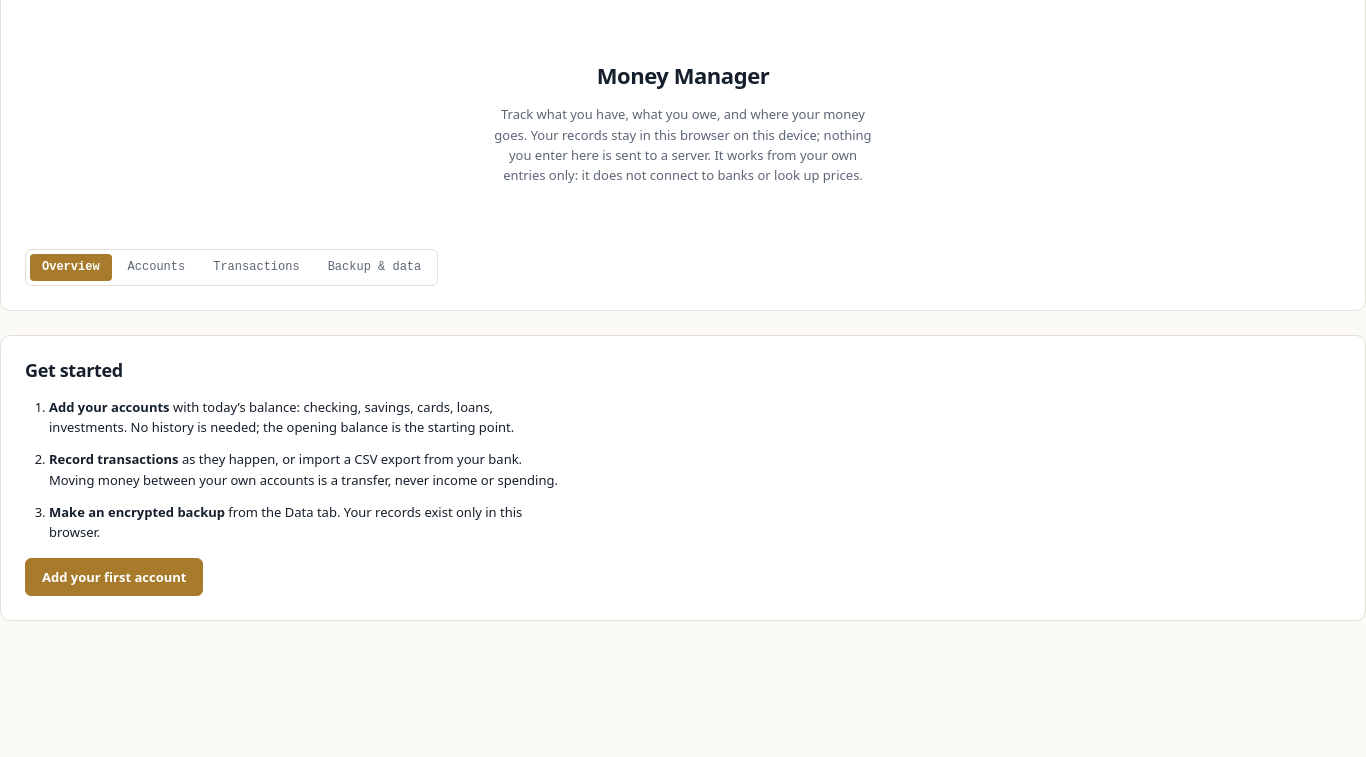
Money Manager › does not show months before tracking began as zero
The image size is (1366, 757).
Click the button "Accounts" at (156, 267), box [116, 254, 197, 281]
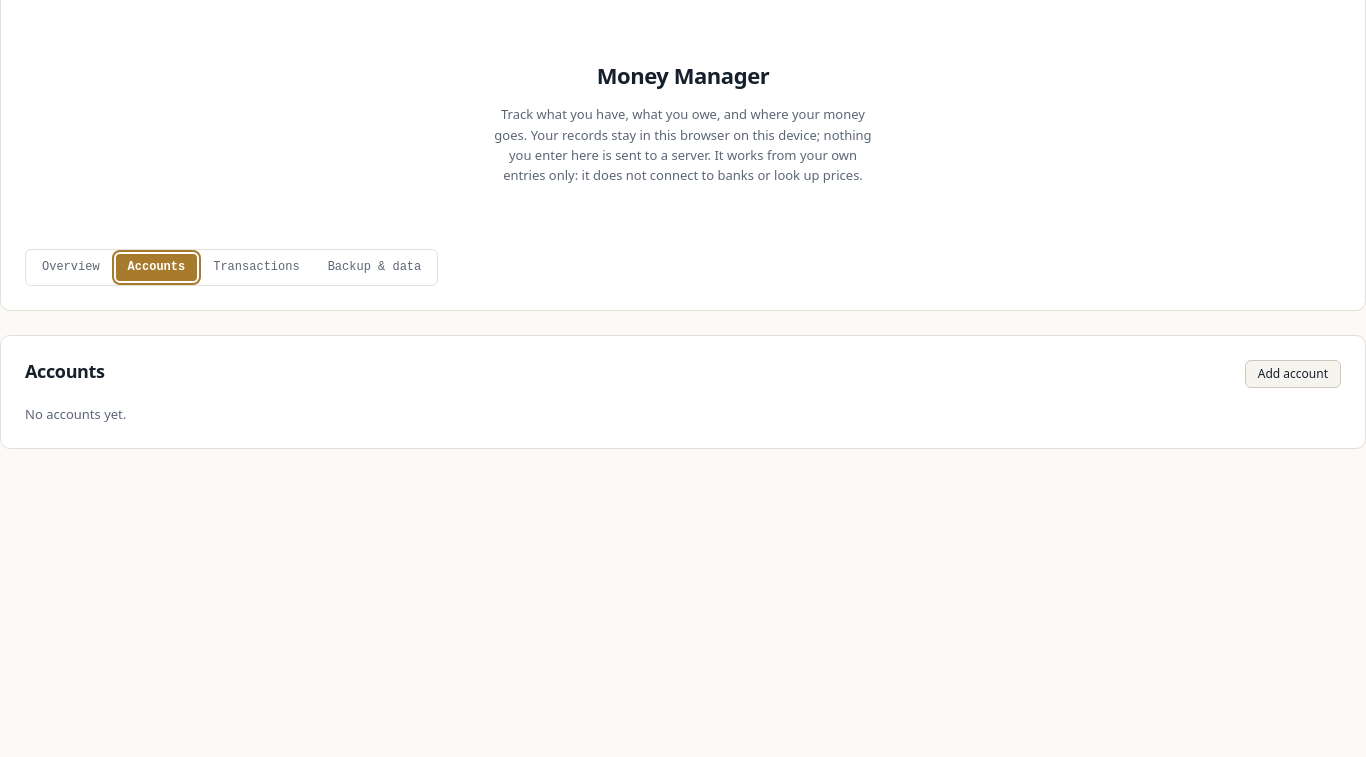
Click the button "Add account" at (1293, 374), box [1245, 360, 1341, 388]
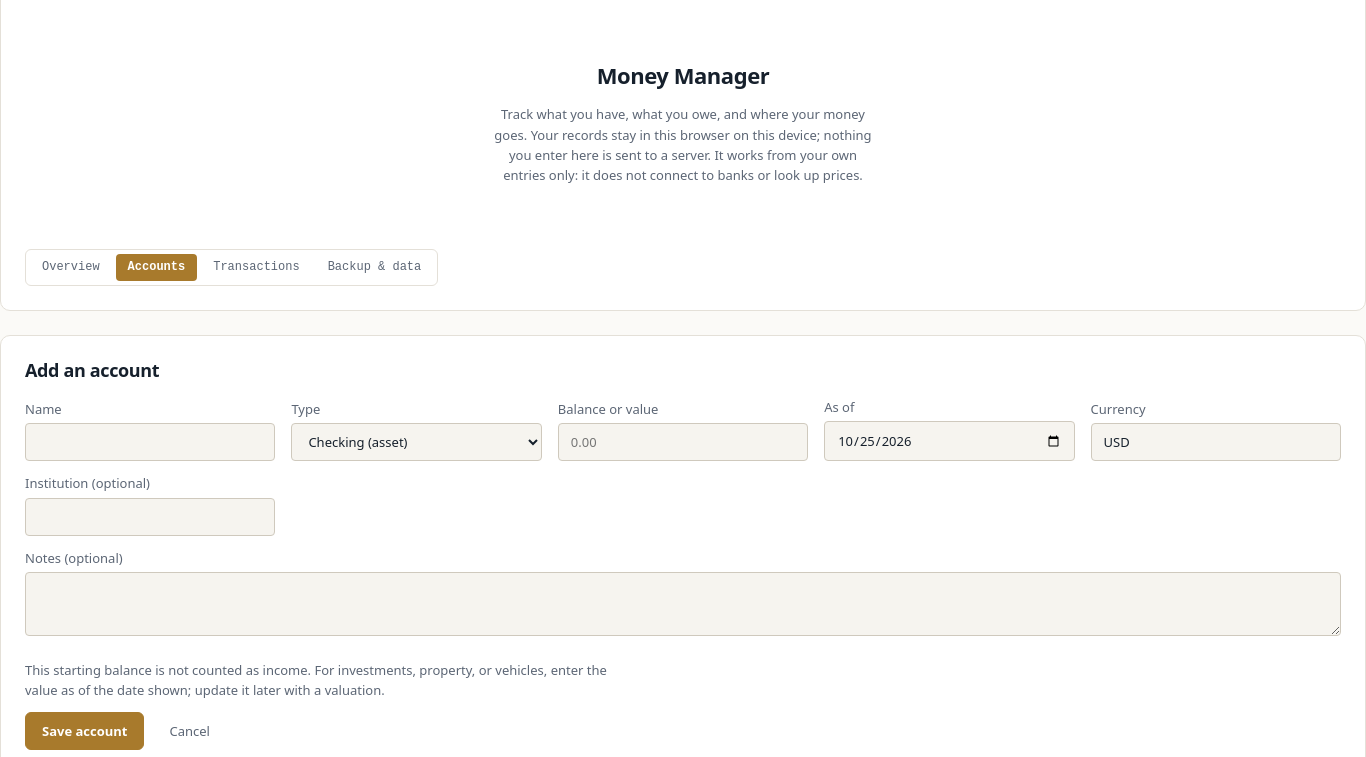
Type "Fresh" into the field labelled "Name" at (150, 442), box [25, 423, 275, 461]
Select "Checking (asset)" in the dropdown labelled "Type" at (417, 442), box [291, 423, 542, 461]
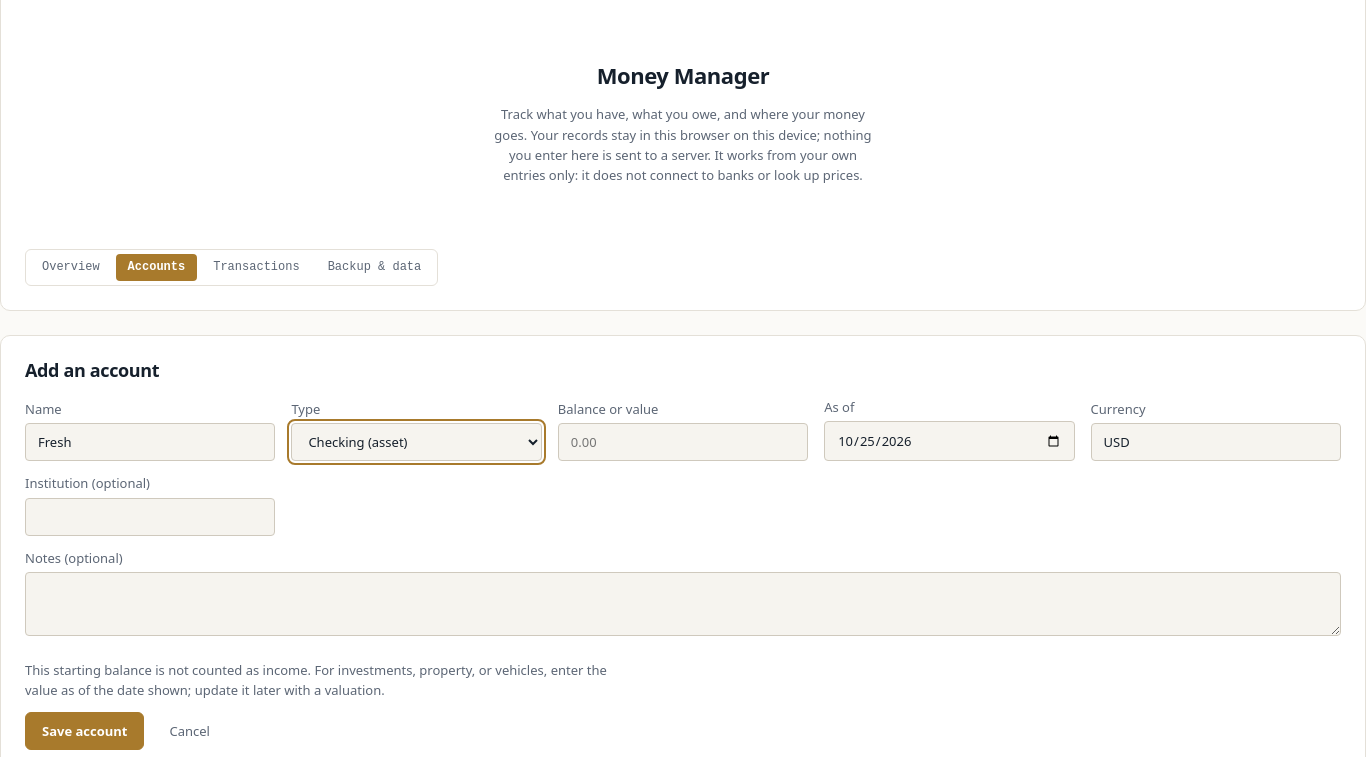
Type "100" into the field labelled "Balance or value" at (683, 442), box [558, 423, 808, 461]
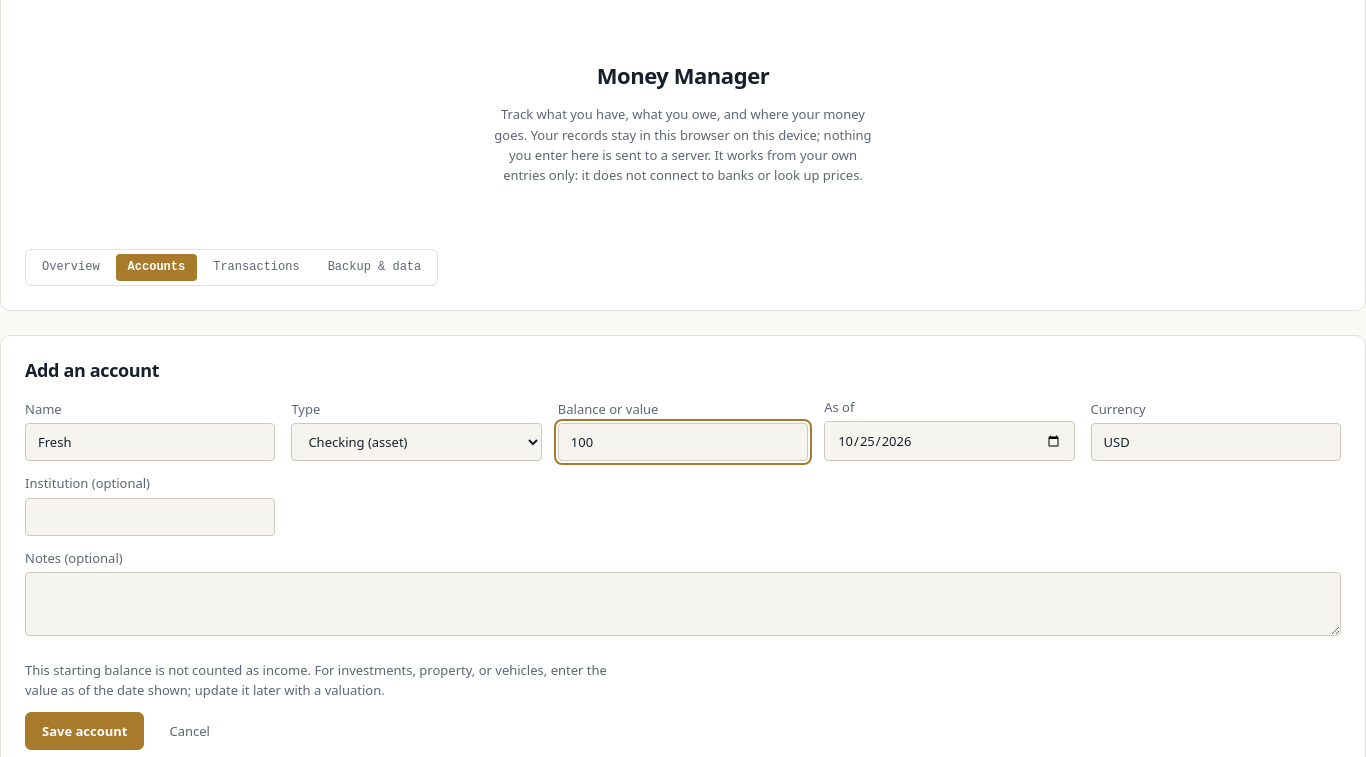
Click the button "Save account" at (85, 731), box [25, 712, 144, 750]
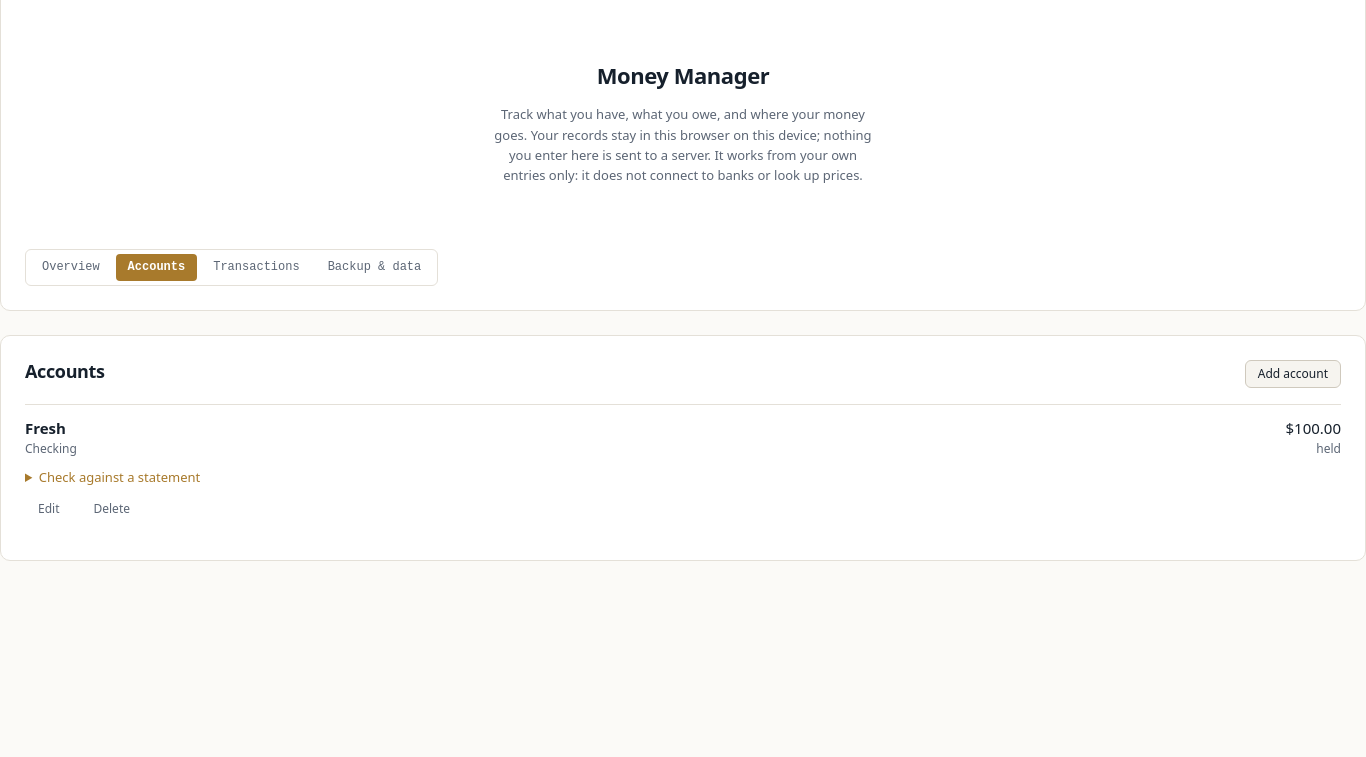
Click the button "Overview" at (71, 267), box [30, 254, 112, 281]
(page scrolled)
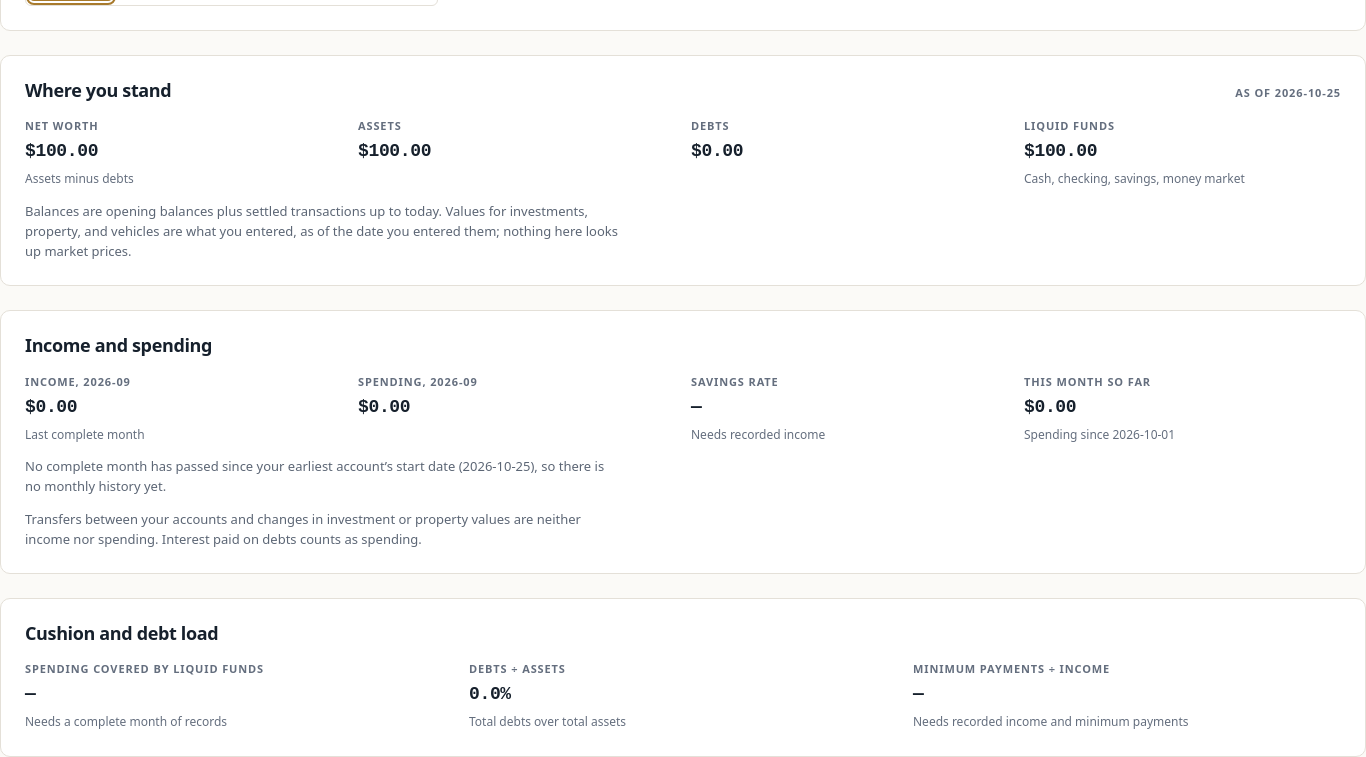
Result: the text "no monthly history yet" is shown at [25, 457, 604, 495]
